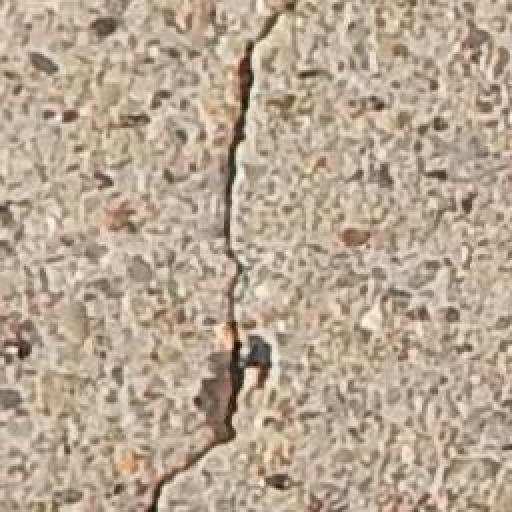spalling: (133, 0, 317, 509)
